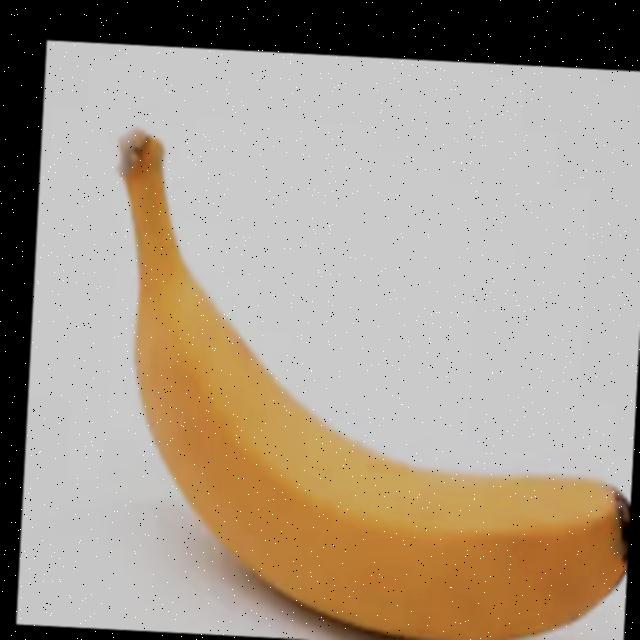Ripe: (83, 111, 640, 640)
